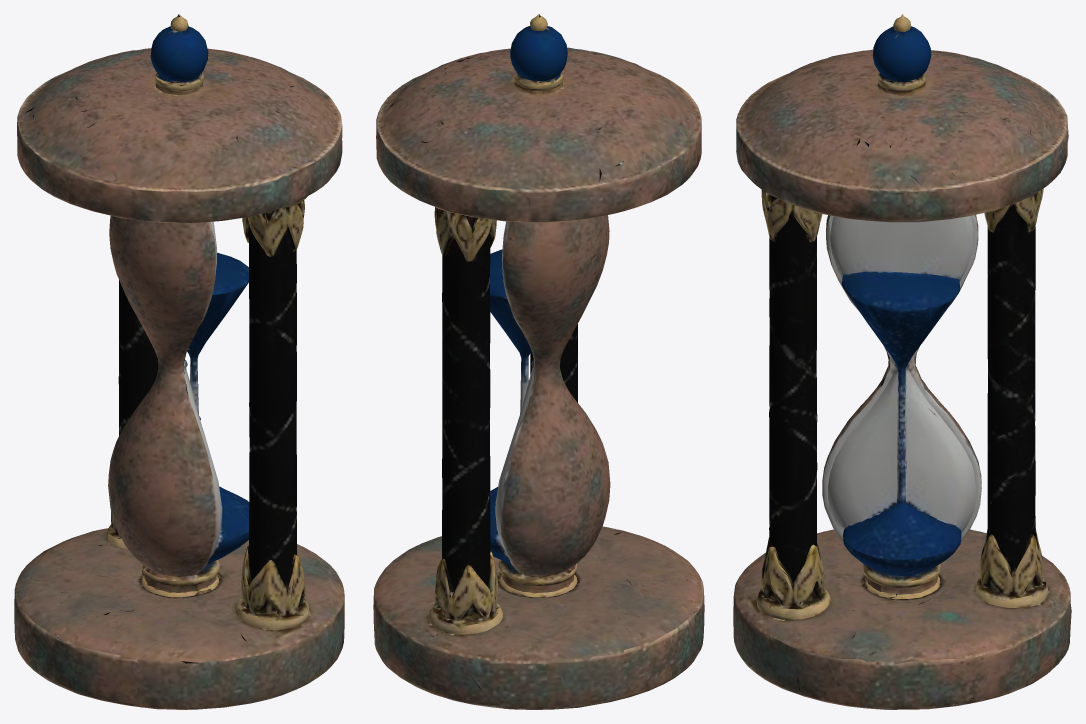
Rendered from HY-09_hourglass_game.glb.
The picture shows the model from 3 angles, left to right: view 1: azimuth 30°, elevation 25°; view 2: azimuth 150°, elevation 25°; view 3: azimuth 270°, elevation 25°; orthographic projection.
Visible parts, largest first — view 1: HY-09_hourglass; view 2: HY-09_hourglass; view 3: HY-09_hourglass.
Part boxes in pixels (x1,y1,x2,y2): HY-09_hourglass: [14, 14, 344, 709]; HY-09_hourglass: [373, 14, 704, 709]; HY-09_hourglass: [733, 14, 1071, 709].
Size of the model in its own units: 0.1431 by 0.3002 by 0.1465.
1 material, 1 textured.
